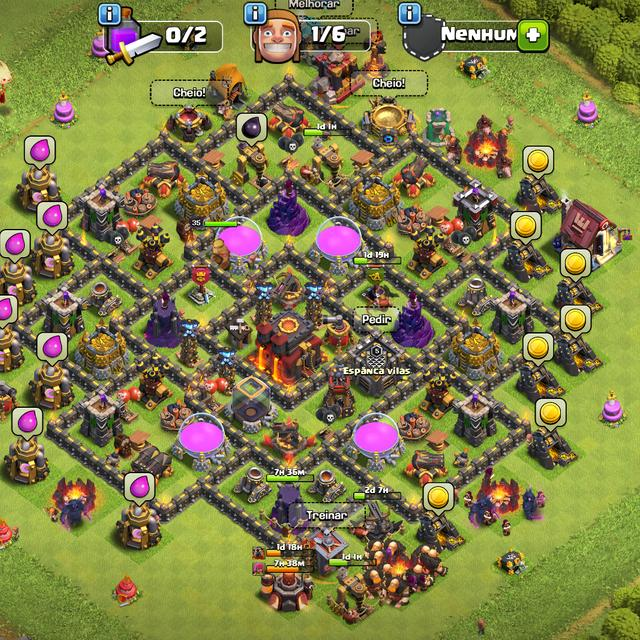Elixir: (24, 134, 57, 171), (36, 200, 69, 237), (123, 472, 156, 508), (11, 407, 44, 442), (36, 332, 68, 367), (1, 229, 32, 264), (0, 294, 18, 329)
ElixirNegro: (235, 113, 268, 147)
coin: (522, 144, 555, 181), (422, 481, 454, 518), (560, 247, 592, 284), (522, 332, 554, 368), (510, 210, 542, 246), (560, 304, 592, 339), (535, 398, 567, 432)
